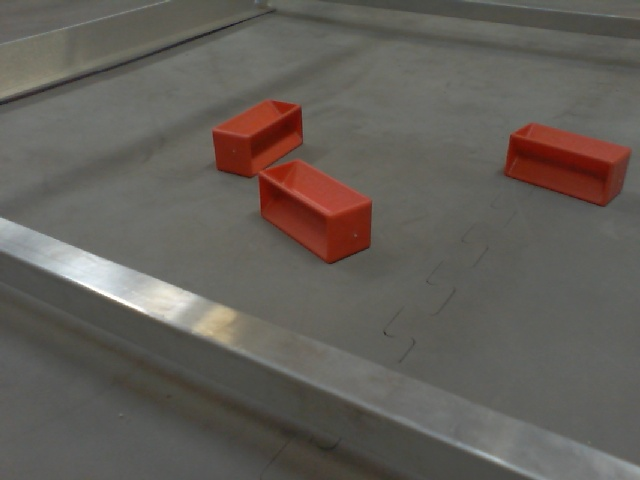RedSample: (256, 156, 375, 267), (503, 119, 633, 214), (208, 98, 306, 179)
